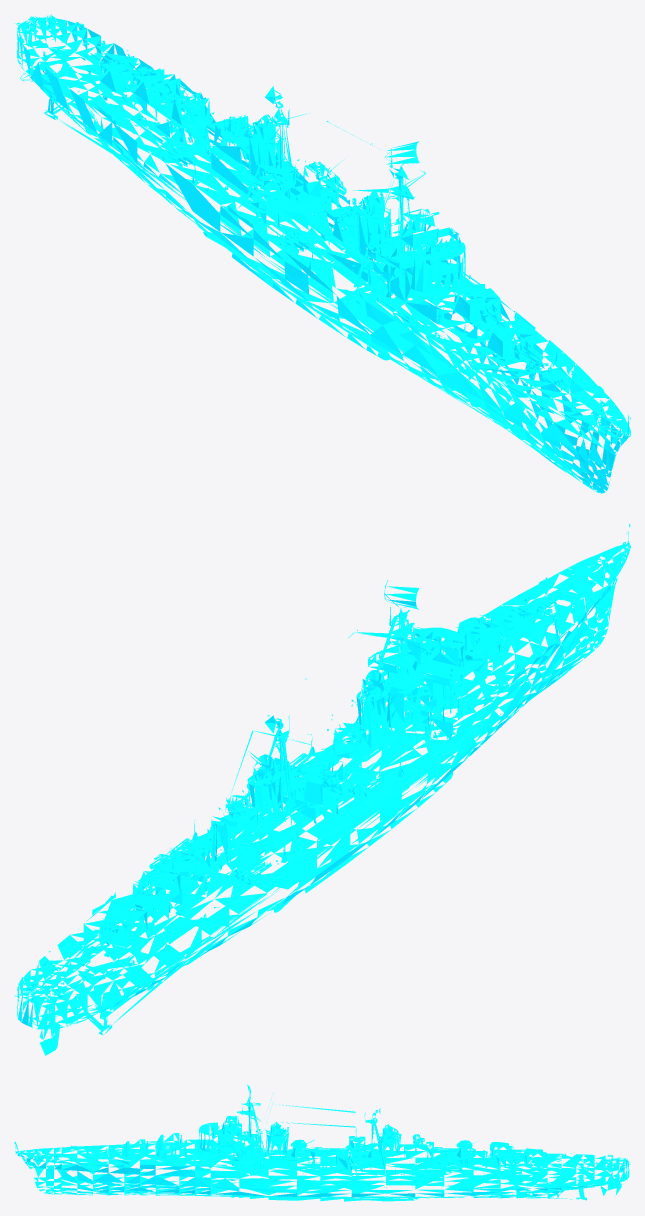
File: Colorful_Kleber.glb
3 views of the same model, one above another, from view 1: azimuth 30°, elevation 25°; view 2: azimuth 150°, elevation 25°; view 3: azimuth 270°, elevation 25° (orthographic). The views are drawn at different scales.
Bounding box in the file's own units: 0.9029 × 1.86 × 9.44.
